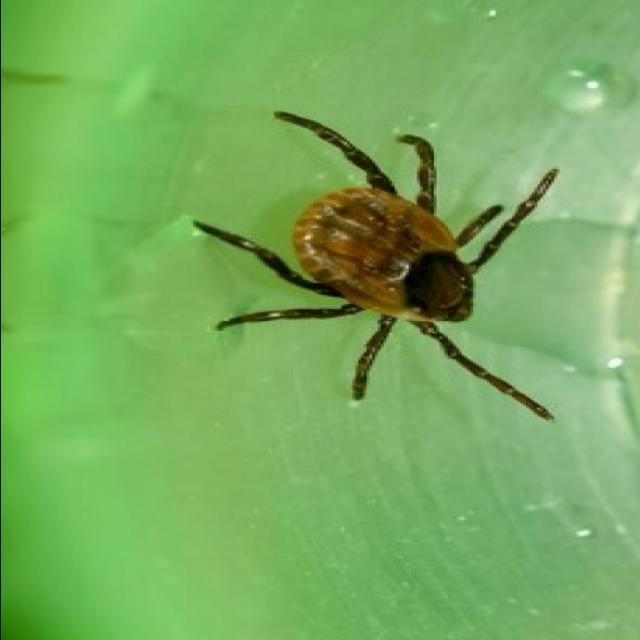Rhipicephalus Sanguineus-F: (198, 114, 553, 420)
